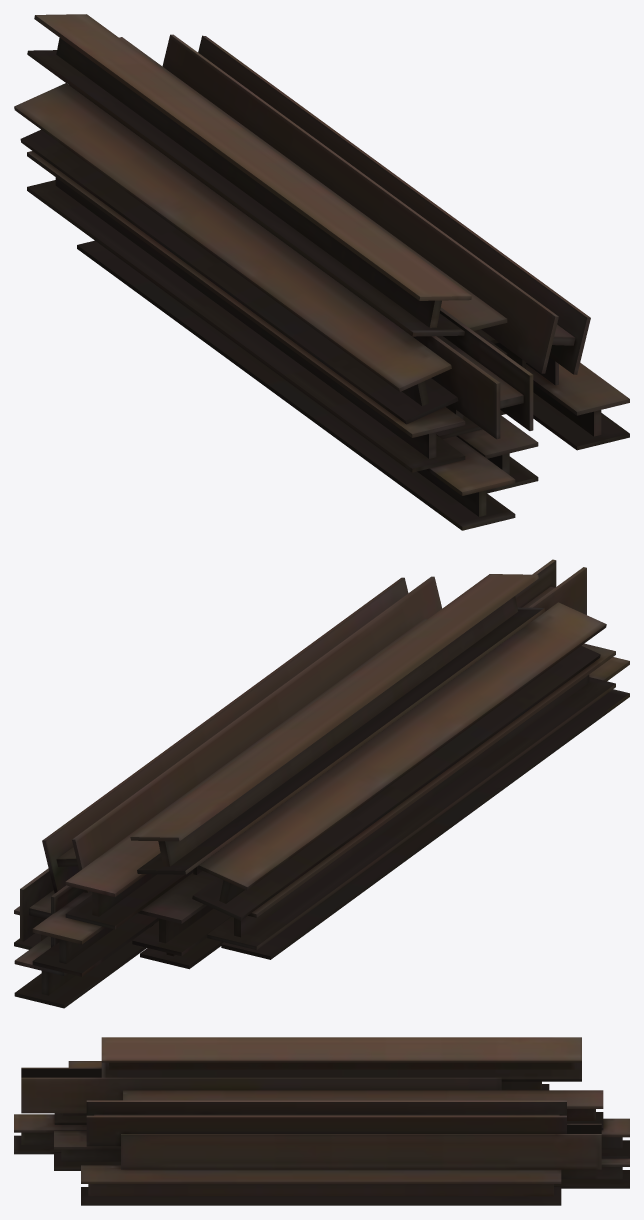
3 views of the same model, one above another, from view 1: azimuth 30°, elevation 25°; view 2: azimuth 150°, elevation 25°; view 3: azimuth 270°, elevation 25° (orthographic). The views are drawn at different scales.
Parts seen in each view (by area): view 1: body0_model0_lod0_mesh0; view 2: body0_model0_lod0_mesh0; view 3: body0_model0_lod0_mesh0.
Boxes of the visible parts, <box> form: body0_model0_lod0_mesh0: <box>14,14,629,530</box>; body0_model0_lod0_mesh0: <box>14,559,629,1008</box>; body0_model0_lod0_mesh0: <box>14,1037,629,1205</box>.
Bounding box in the file's own units: 48.93 × 34.12 × 174.
Materials: 1 (1 with a texture image).
